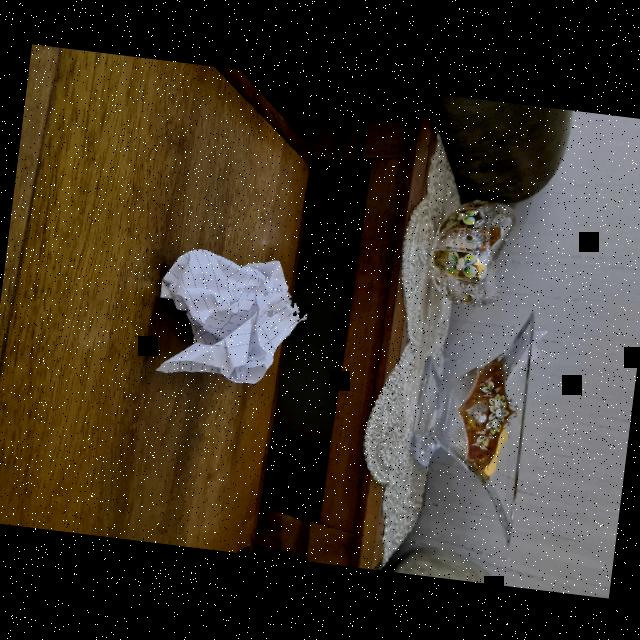scrap_paper: (138, 243, 313, 392)
